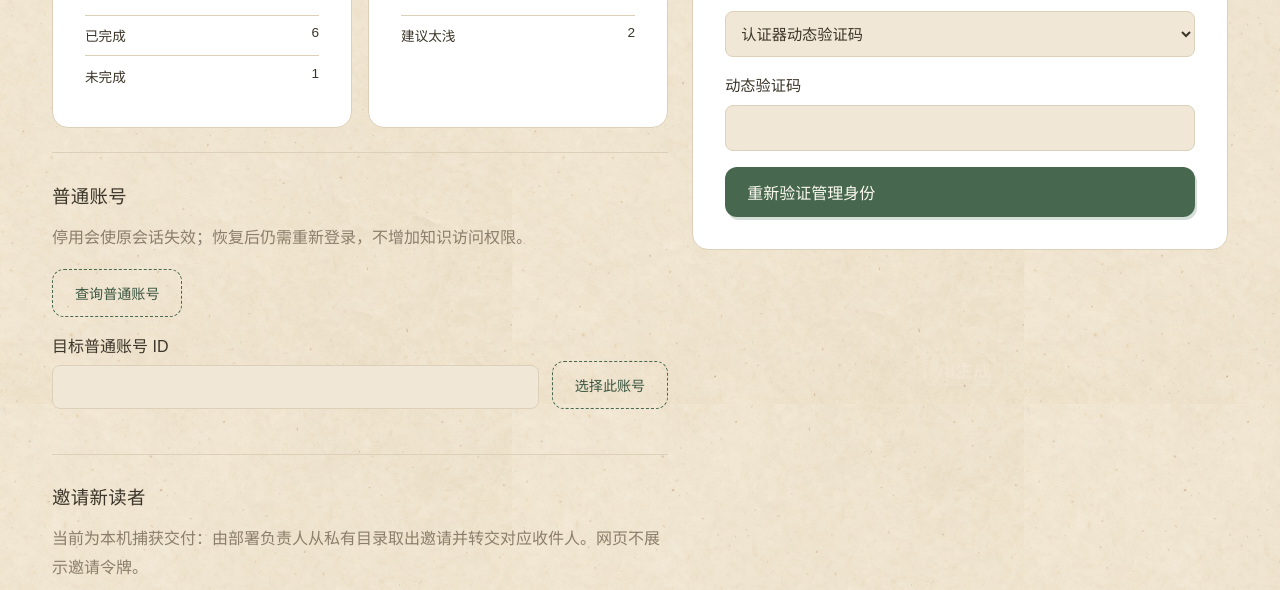
Test: 停用要求明确原因和确认，携带当前状态且不修改权限
(page scrolled)
Click the button "查询普通账号": [117, 293] box x1=52 y1=269 x2=182 y2=317
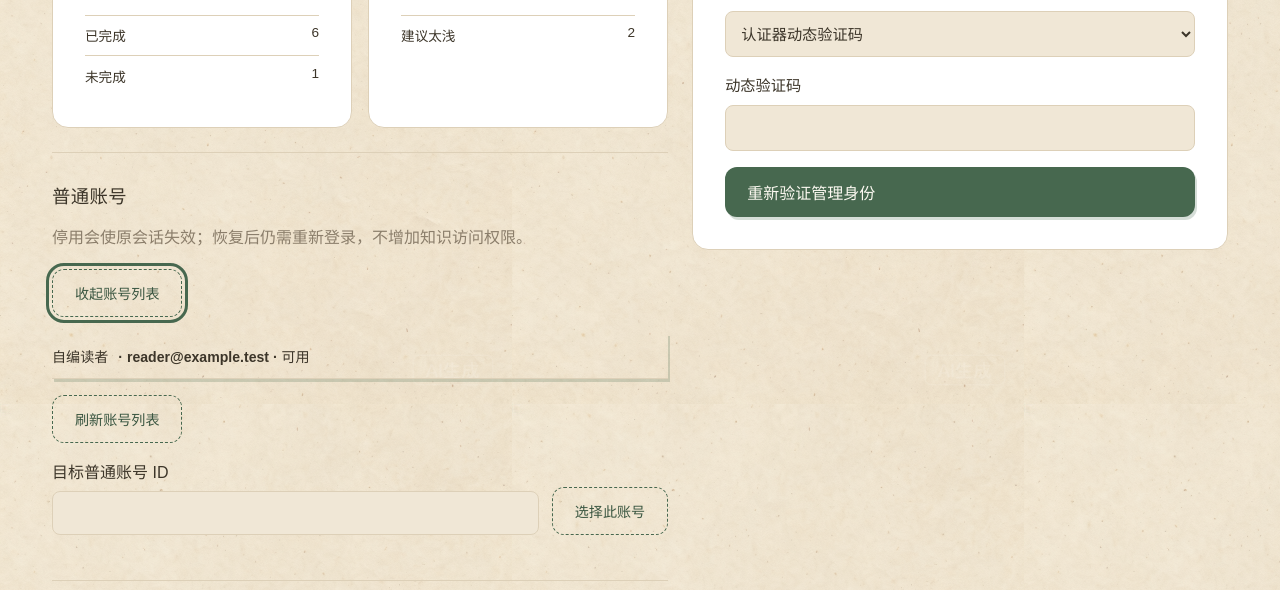
Click the button "自编读者 · reader@example.test · 可用": [80, 357] box x1=52 y1=333 x2=668 y2=379
(page scrolled)
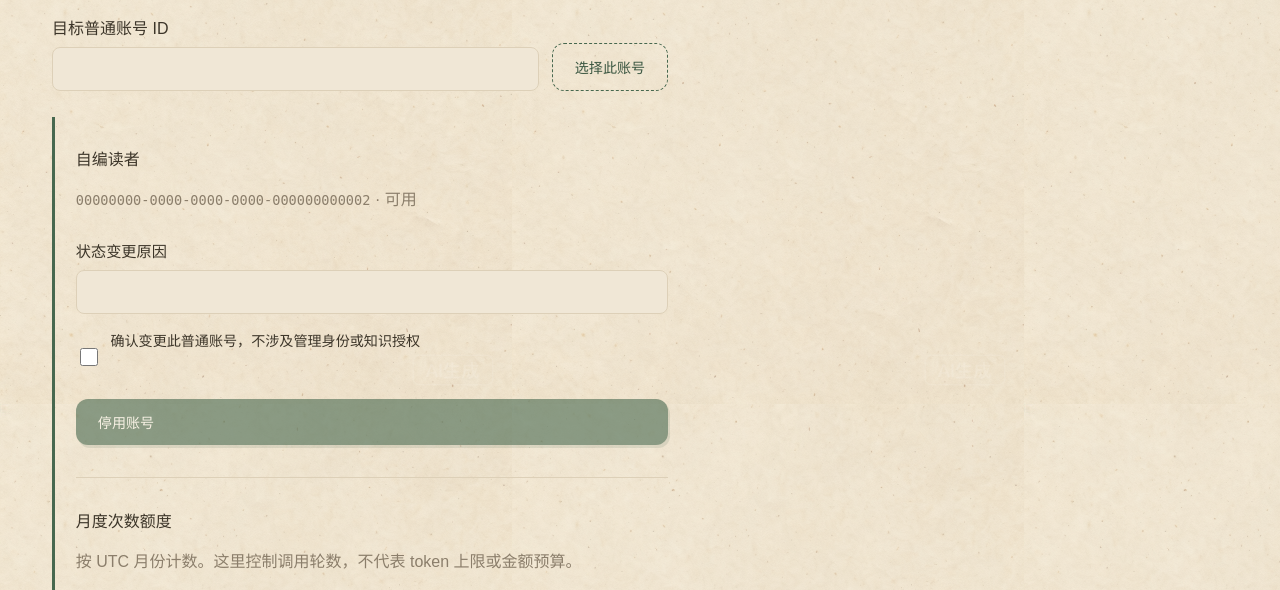
In the field labelled "状态变更原因": [372, 292] box x1=76 y1=270 x2=668 y2=314, type "自编停用测试"
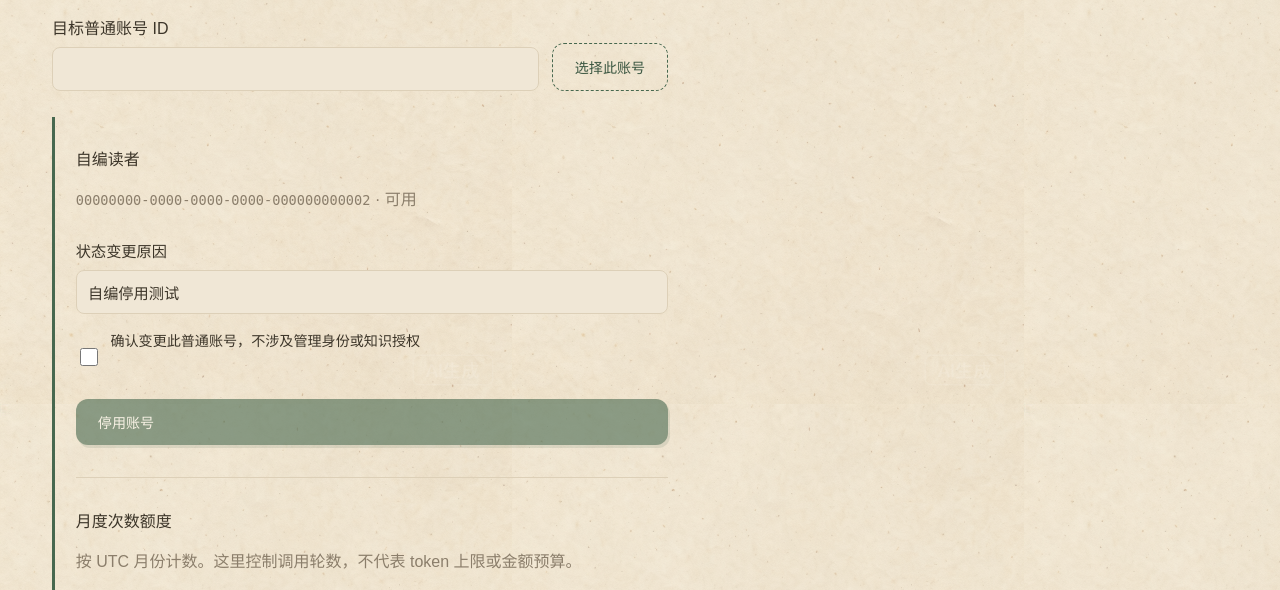
expect the button "停用账号" is disabled: met, box x1=76 y1=399 x2=668 y2=445
Click the checkbox labelled "确认变更此普通账号，不涉及管理身份或知识授权": [89, 357] box x1=80 y1=334 x2=98 y2=380
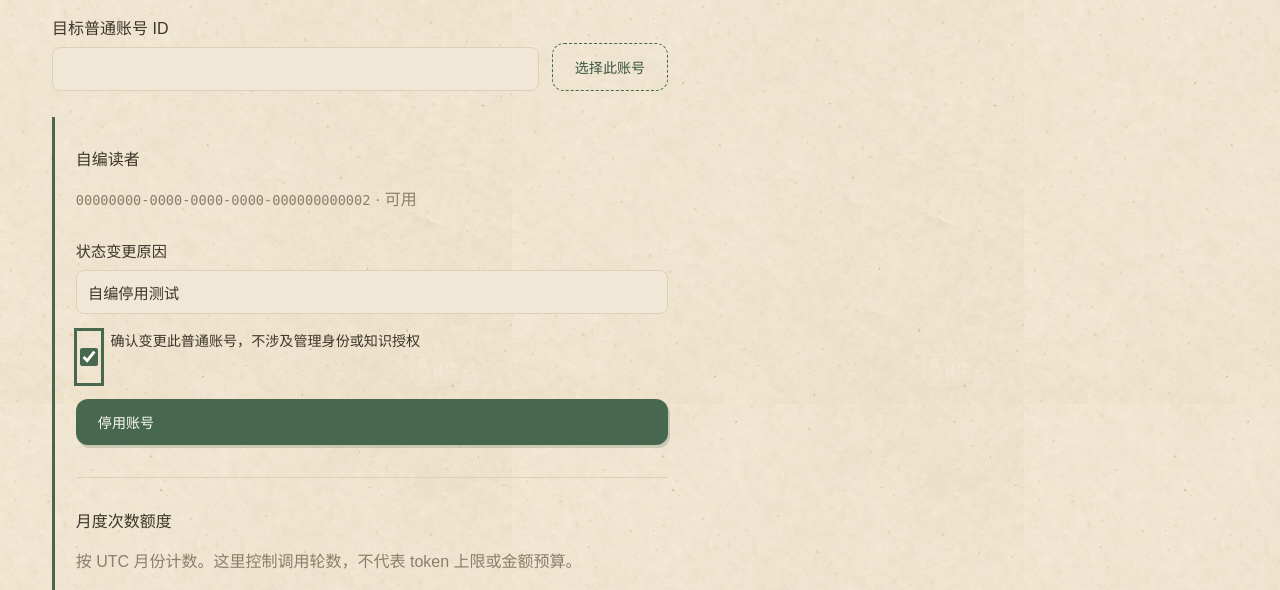
Click the button "停用账号": [126, 423] box x1=76 y1=399 x2=668 y2=445
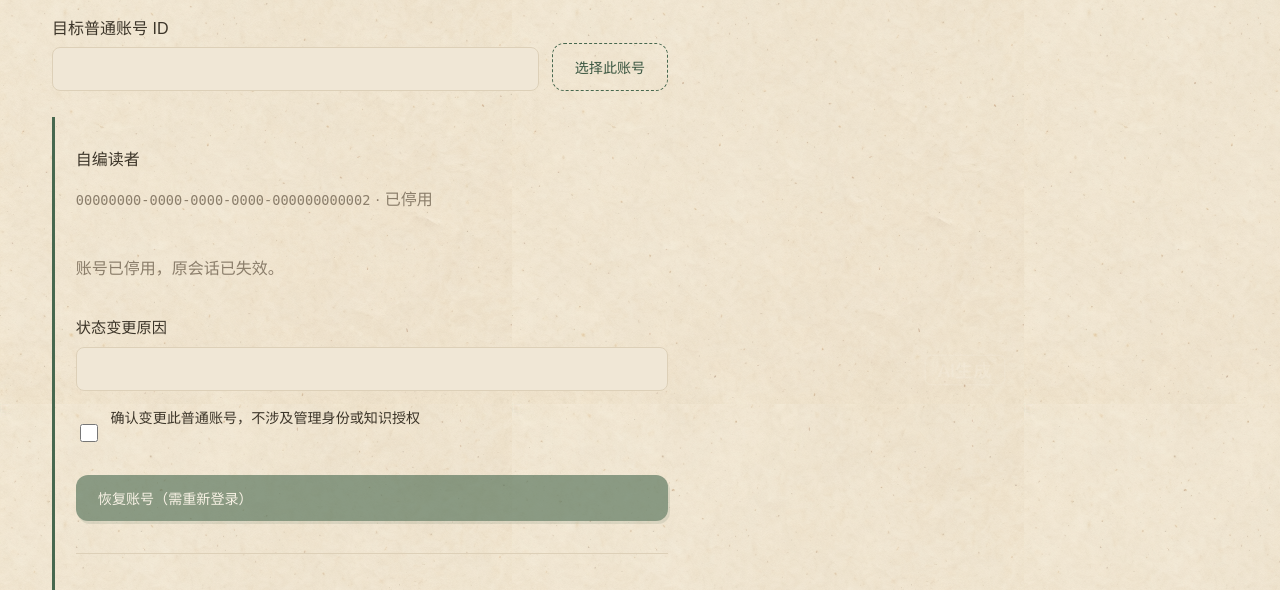
expect the text "账号已停用，原会话已失效。" is shown: met, box x1=76 y1=260 x2=284 y2=276
